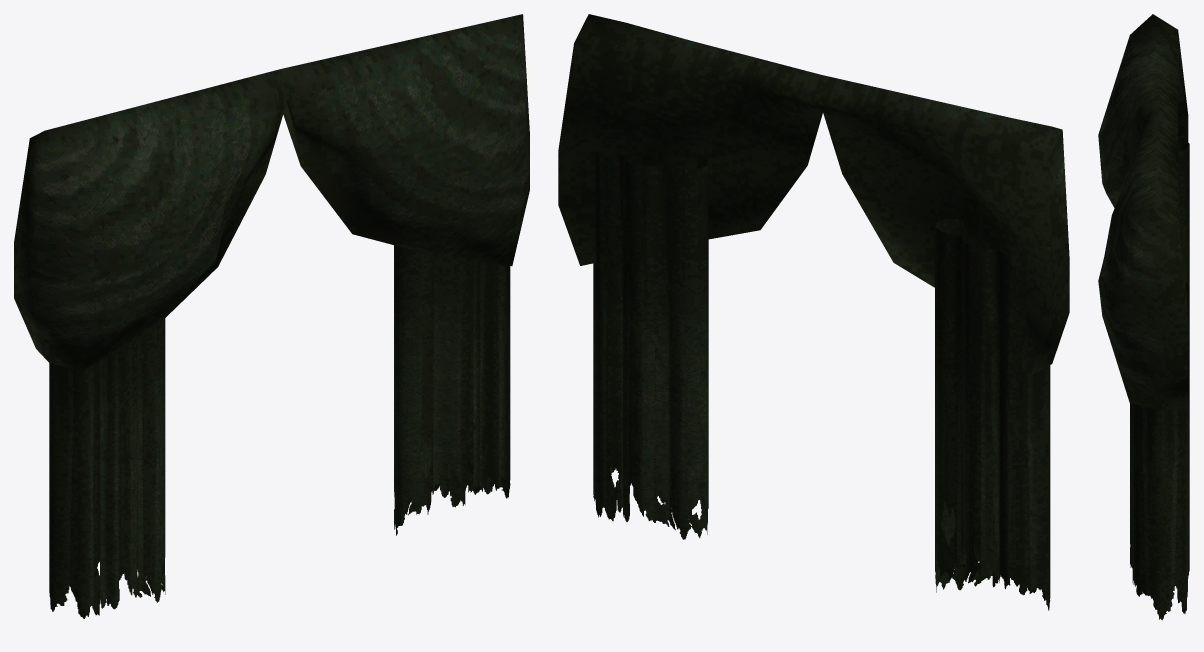
Rendered from curtain08_long_broken.dae.
3 renders of one model, left to right at view 1: azimuth 30°, elevation 25°; view 2: azimuth 150°, elevation 25°; view 3: azimuth 270°, elevation 25°, orthographic. The views are drawn at different scales.
Parts seen in each view (by area): view 1: polySurface191, polySurface192; view 2: polySurface191, polySurface192; view 3: polySurface191.
Part boxes in pixels (left/top/right/bottom): polySurface191: left=14, top=14, right=529, bottom=618; polySurface192: left=68, top=419, right=494, bottom=594; polySurface191: left=558, top=14, right=1069, bottom=610; polySurface192: left=610, top=466, right=1030, bottom=593; polySurface191: left=1098, top=14, right=1189, bottom=620.
Size of what is drawn, in the model's own units: 2.5 by 2.42 by 0.4673.
